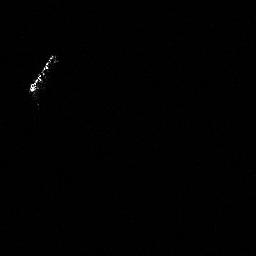ship: (25, 52, 61, 97)
